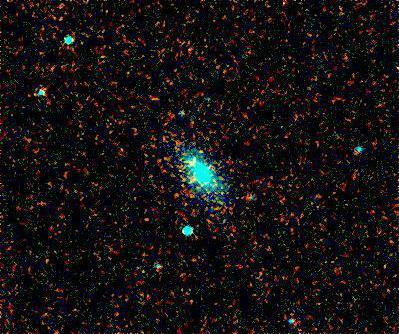star: (164, 179, 194, 209)
